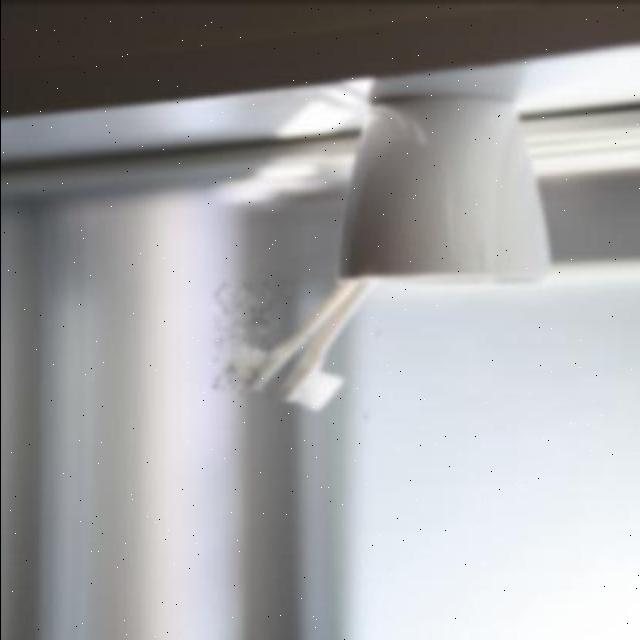toothbrush: (271, 278, 394, 422), (210, 282, 346, 394)
